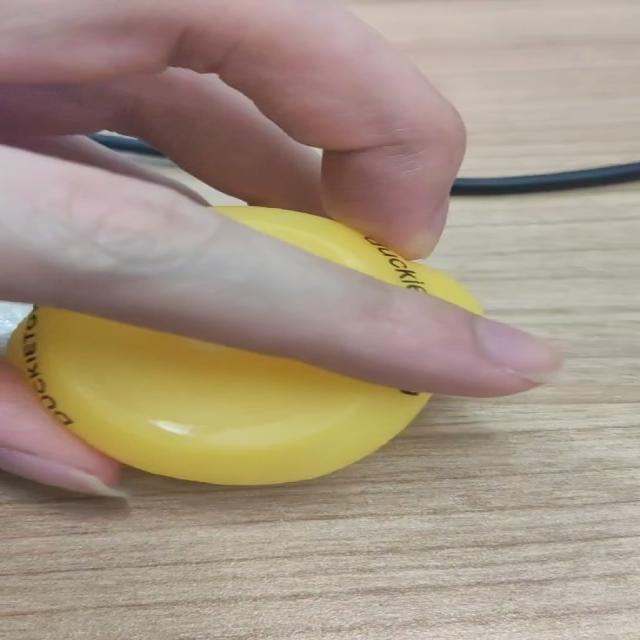rubber-duck: (7, 306, 428, 483), (213, 206, 480, 312)
